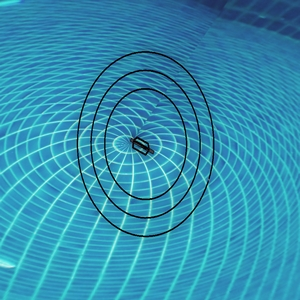circle: (72, 48, 219, 249)
